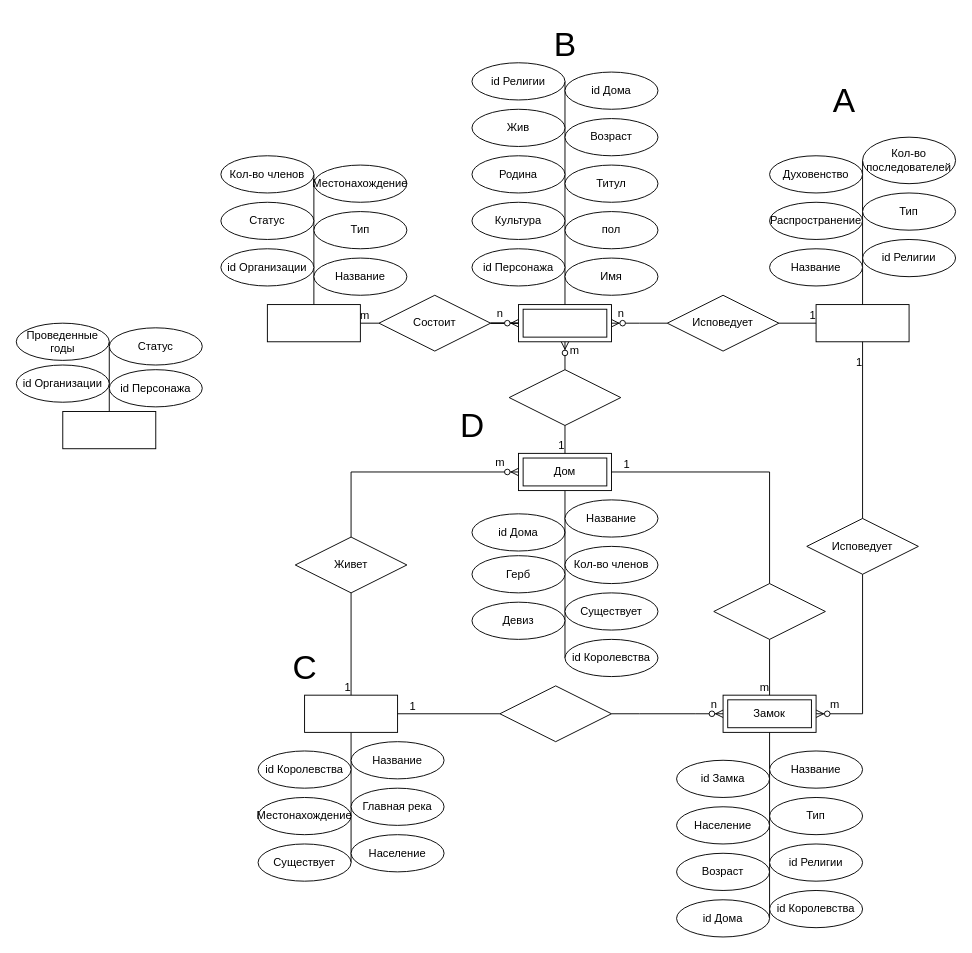
This 972x953 diagram has some shape labels left out. The shapes that lost their labels are listed below. From the top down, each one's box as (x1, y1, x2, y2) in pixels, then its label:
(266, 304, 360, 342): Организация
(518, 304, 611, 342): Персонаж
(815, 304, 909, 342): Религия
(508, 369, 621, 425): Принадлежит
(62, 411, 156, 449): Организации и персонажи
(713, 583, 825, 639): Управляет
(304, 694, 398, 732): Королевство
(499, 685, 611, 742): Находится
